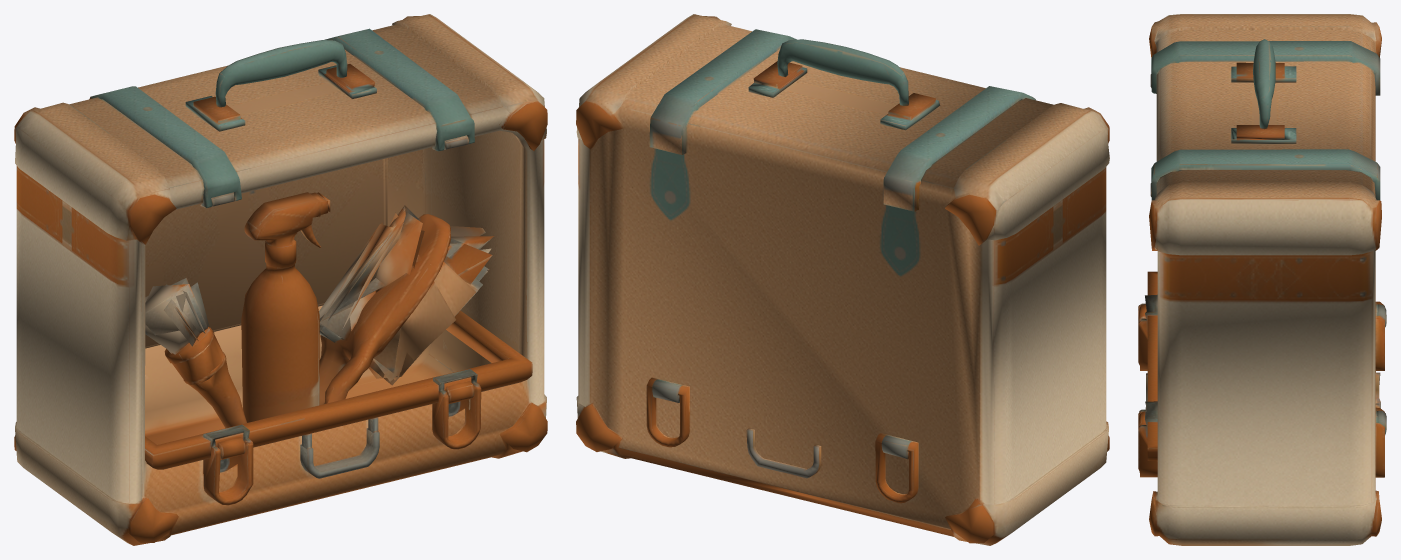
Rendered from grooming_tote.glb.
The picture shows the model from 3 angles, left to right: view 1: azimuth 30°, elevation 25°; view 2: azimuth 150°, elevation 25°; view 3: azimuth 270°, elevation 25°; orthographic projection. The views are drawn at different scales.
Parts seen in each view (by area): view 1: grooming_tote; view 2: grooming_tote; view 3: grooming_tote.
Boxes of the visible parts, x1=… form: grooming_tote: x1=14, y1=14, x2=547, y2=545; grooming_tote: x1=576, y1=14, x2=1109, y2=545; grooming_tote: x1=1138, y1=14, x2=1386, y2=545.
Bounding box in the file's own units: 0.3459 × 0.32 × 0.1796.
1 material, 1 textured.
